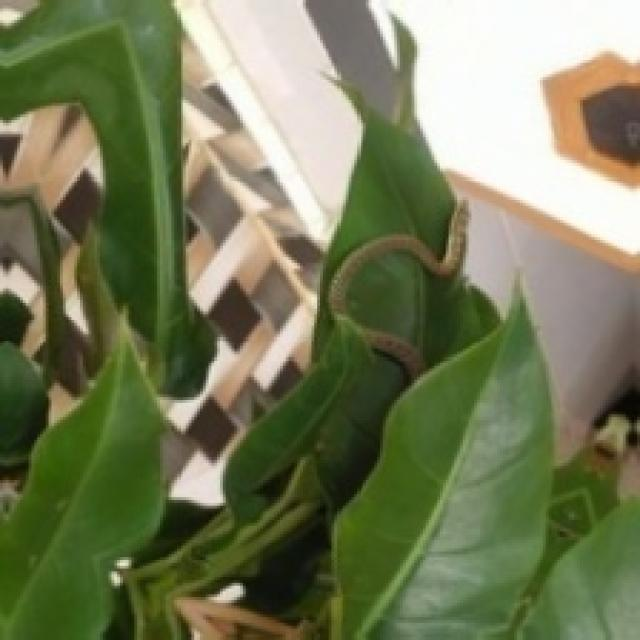paradise tree snake: (226, 203, 466, 494), (326, 429, 363, 491)
